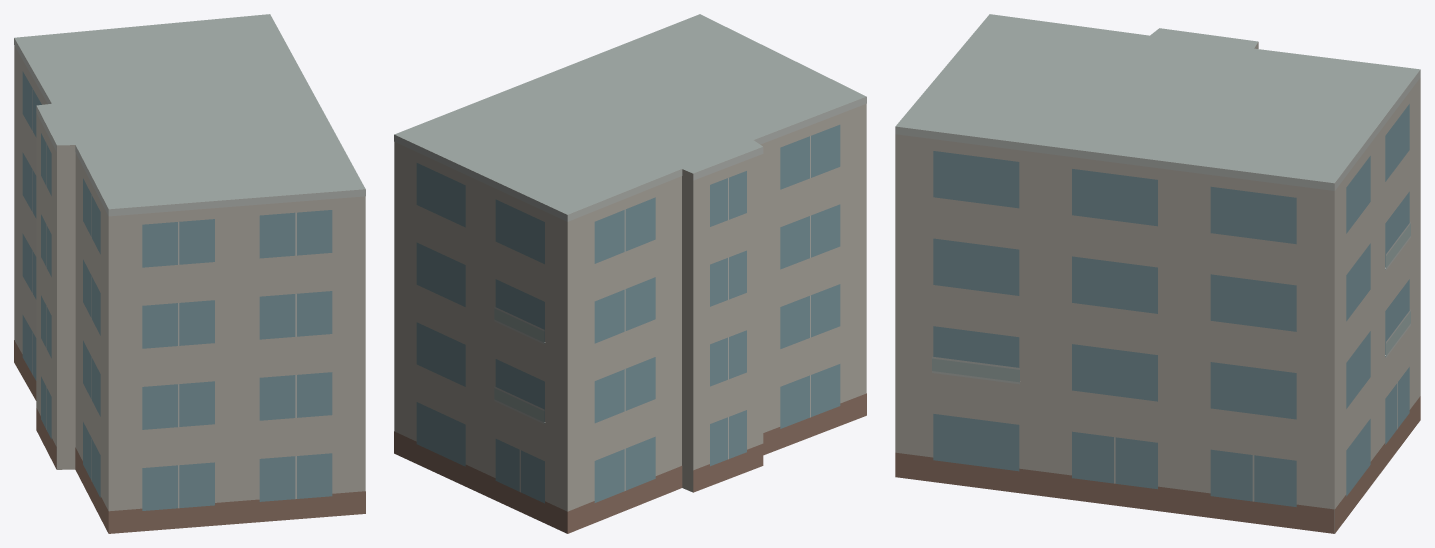
The model's file is survey-upis-32868392.glb.
The picture shows the model from 3 angles, left to right: view 1: azimuth 30°, elevation 25°; view 2: azimuth 150°, elevation 25°; view 3: azimuth 270°, elevation 25°; orthographic projection. The views are drawn at different scales.
Visible parts, largest first — view 1: survey-upis-32868392.tmp; view 2: survey-upis-32868392.tmp; view 3: survey-upis-32868392.tmp.
Boxes of the visible parts, left/top/right/bottom form: survey-upis-32868392.tmp: left=14, top=14, right=365, bottom=533; survey-upis-32868392.tmp: left=394, top=14, right=866, bottom=533; survey-upis-32868392.tmp: left=895, top=14, right=1420, bottom=533.
Bounding box in the file's own units: 11.5 × 11.1 × 15.08.
